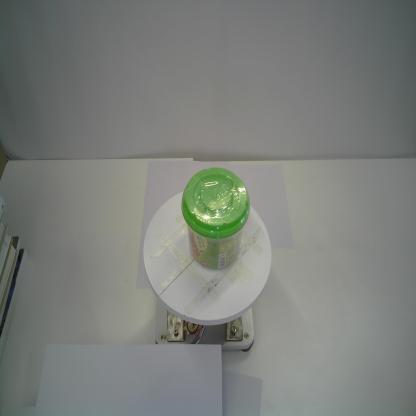Instant Drink: (181, 166, 252, 271)
